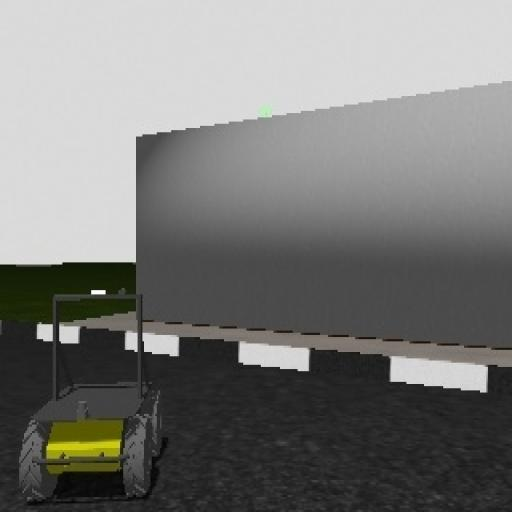huskya200: (26, 286, 160, 505)
